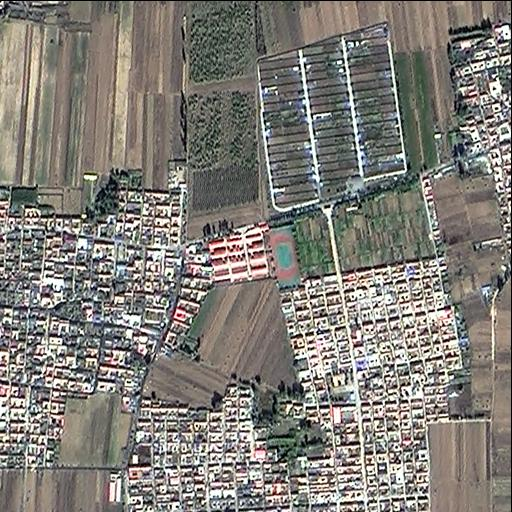school: (205, 218, 301, 292)
